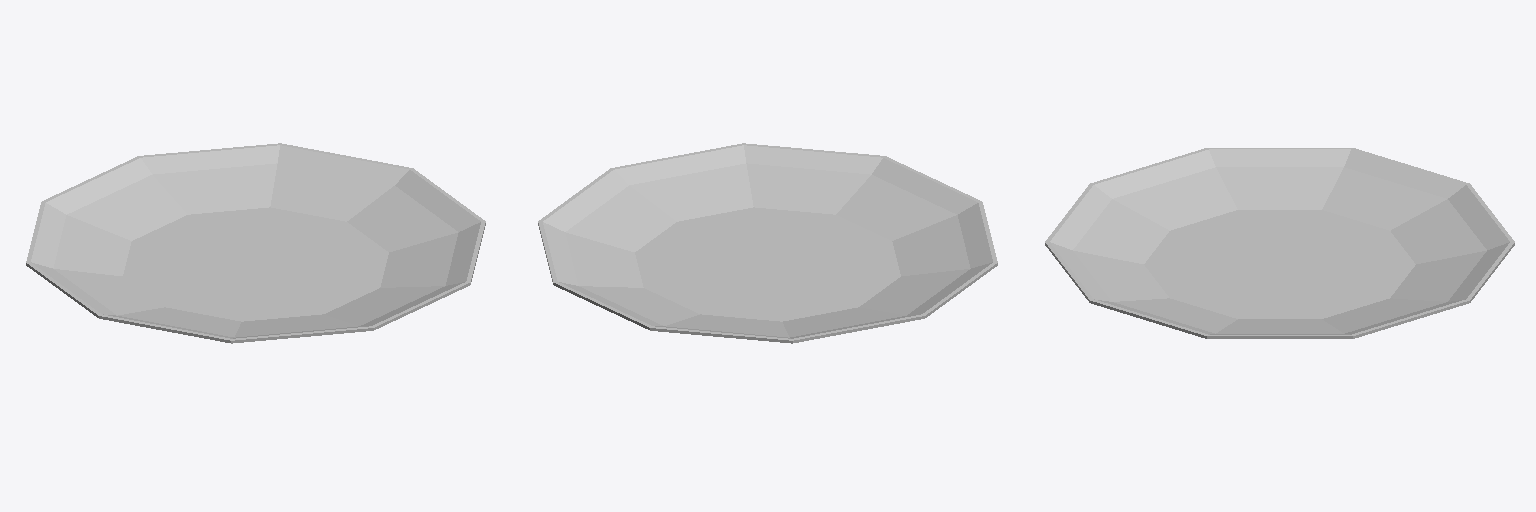
The model's file is plate1.obj.
3 views of the same model, side by side, from view 1: azimuth 30°, elevation 25°; view 2: azimuth 150°, elevation 25°; view 3: azimuth 270°, elevation 25° (orthographic).
Visible parts, largest first — view 1: group[number redacted]; view 2: group[number redacted]; view 3: group[number redacted].
Boxes of the visible parts, box(x1,y1,x2,y2) form: group[number redacted]: box(26, 143, 485, 343); group[number redacted]: box(538, 143, 997, 343); group[number redacted]: box(1045, 148, 1514, 338).
Size of the model in its own units: 4.32 by 0.2977 by 4.54.